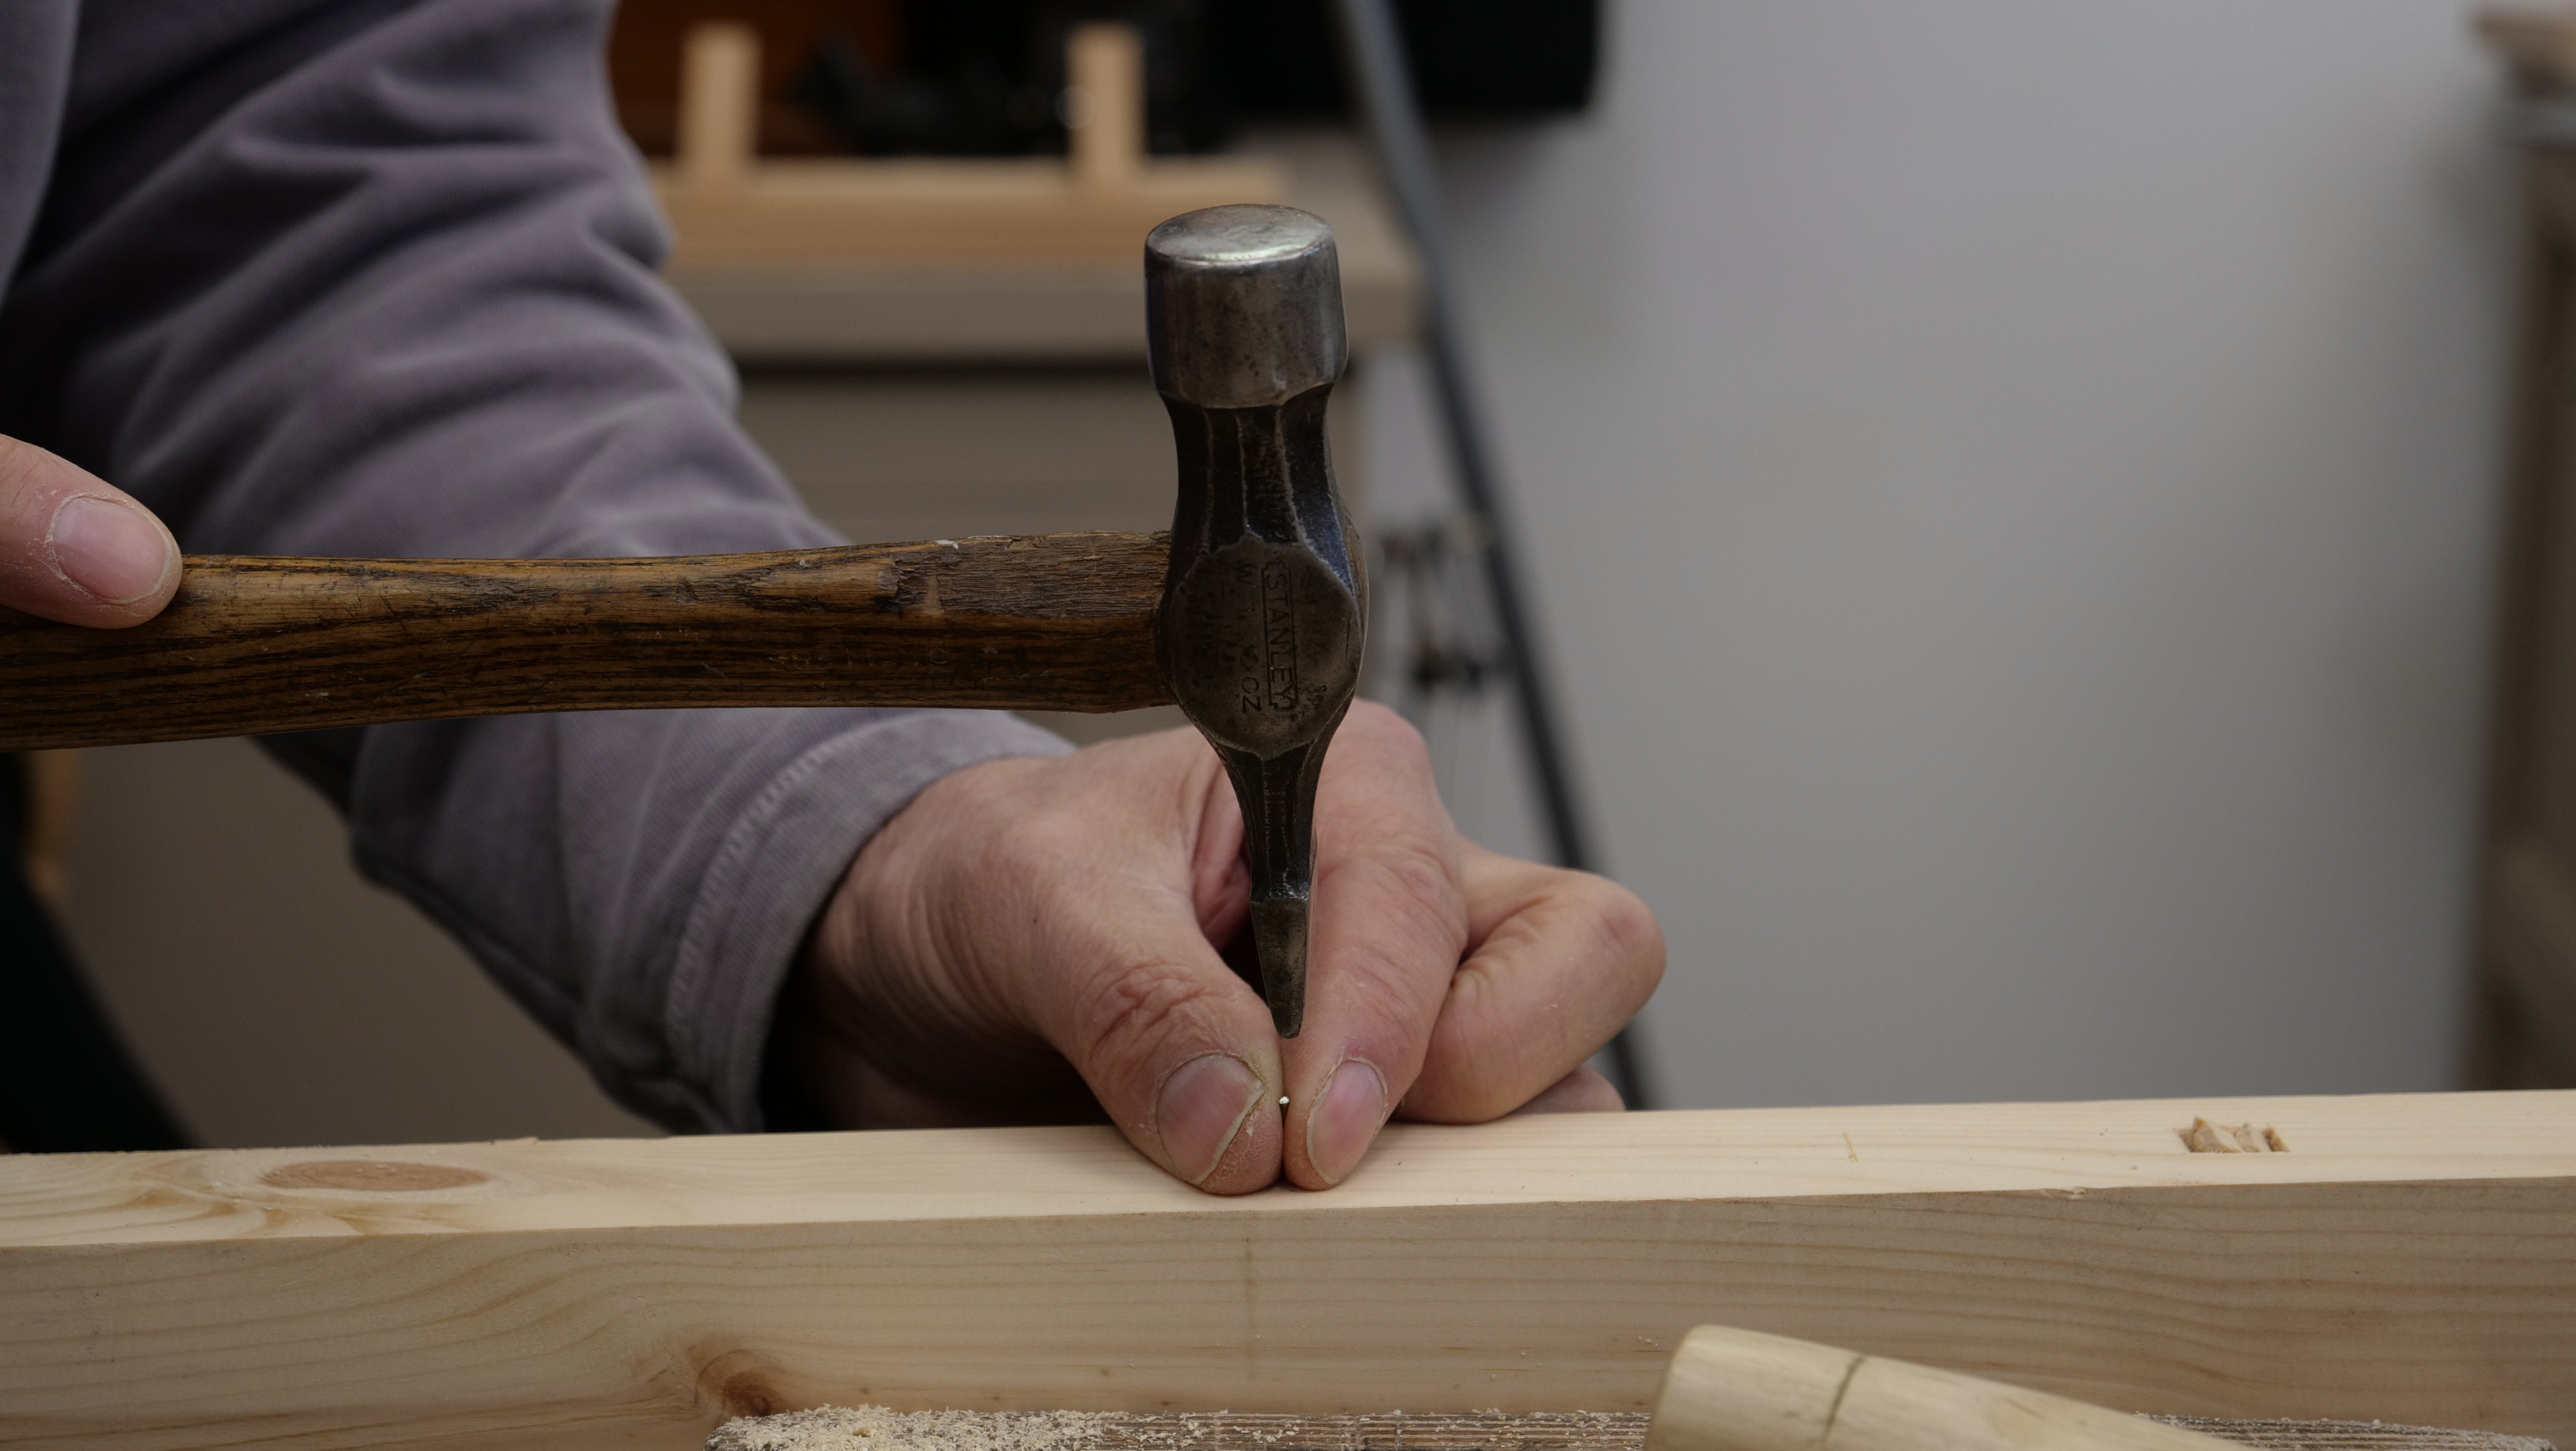hammer: (0, 182, 1453, 1048)
